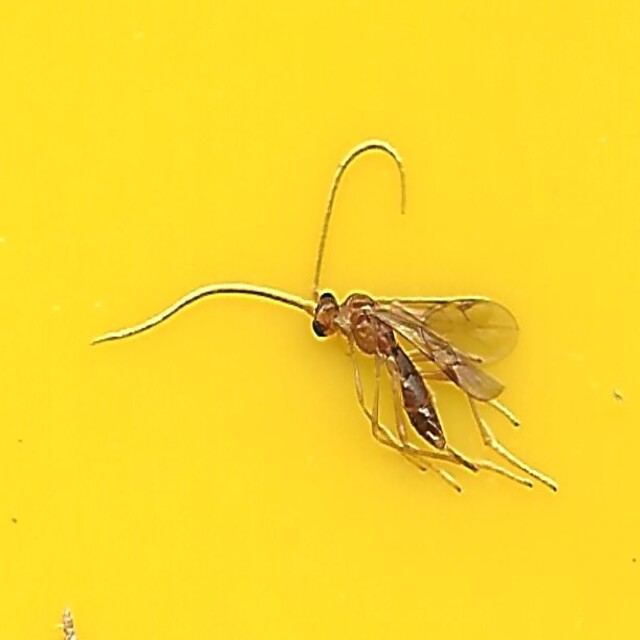Hymenoptera: (105, 145, 535, 495)
